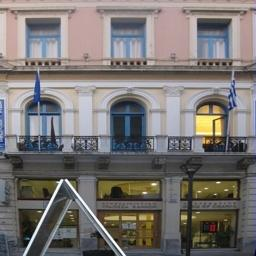building: (0, 2, 256, 256)
